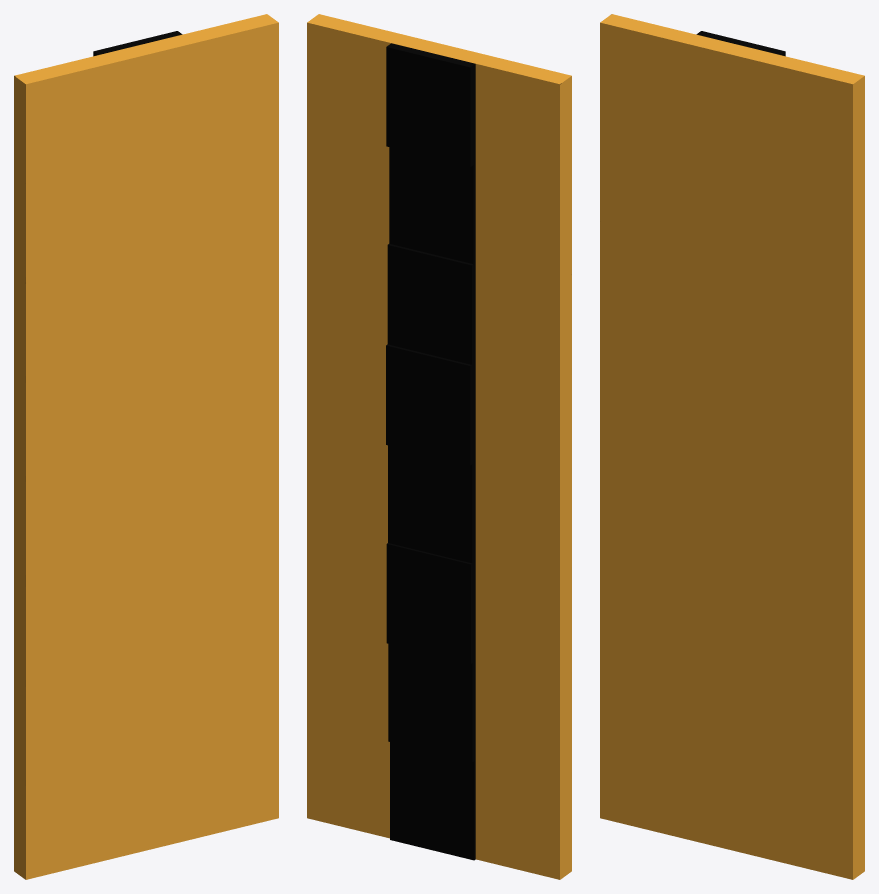
Rendered from Wall H 7.fbx.
3 renders of one model, left to right at view 1: azimuth 30°, elevation 25°; view 2: azimuth 150°, elevation 25°; view 3: azimuth 330°, elevation 25°, orthographic.
Parts seen in each view (by area): view 1: Wall H 7; view 2: Wall H 7; view 3: Wall H 7.
Boxes of the visible parts, <box> form: Wall H 7: <box>14,14,278,879</box>; Wall H 7: <box>307,14,571,879</box>; Wall H 7: <box>600,14,864,879</box>.
Bounding box in the file's own units: 249 × 747 × 29.21.
Materials: 1 (1 with a texture image).
